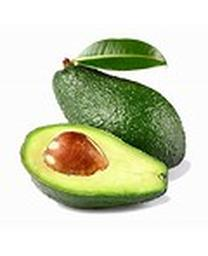avocado: (52, 57, 187, 177), (19, 122, 170, 212)
